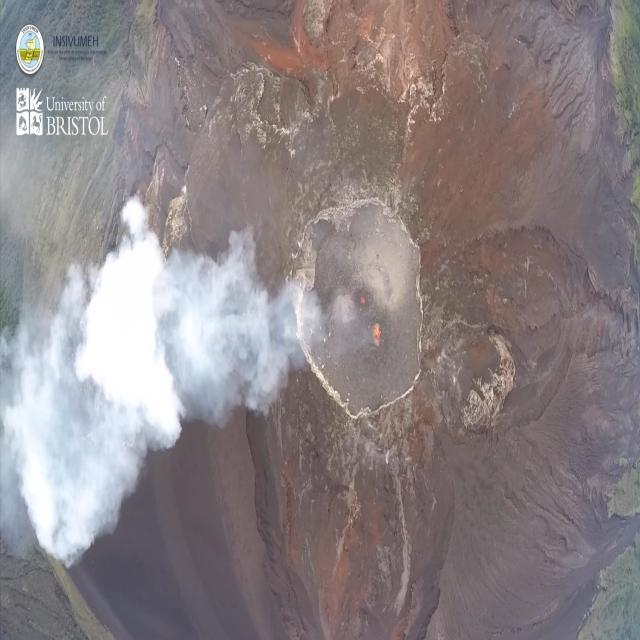Plume: (0, 196, 289, 572)
Summit: (288, 192, 440, 427)
